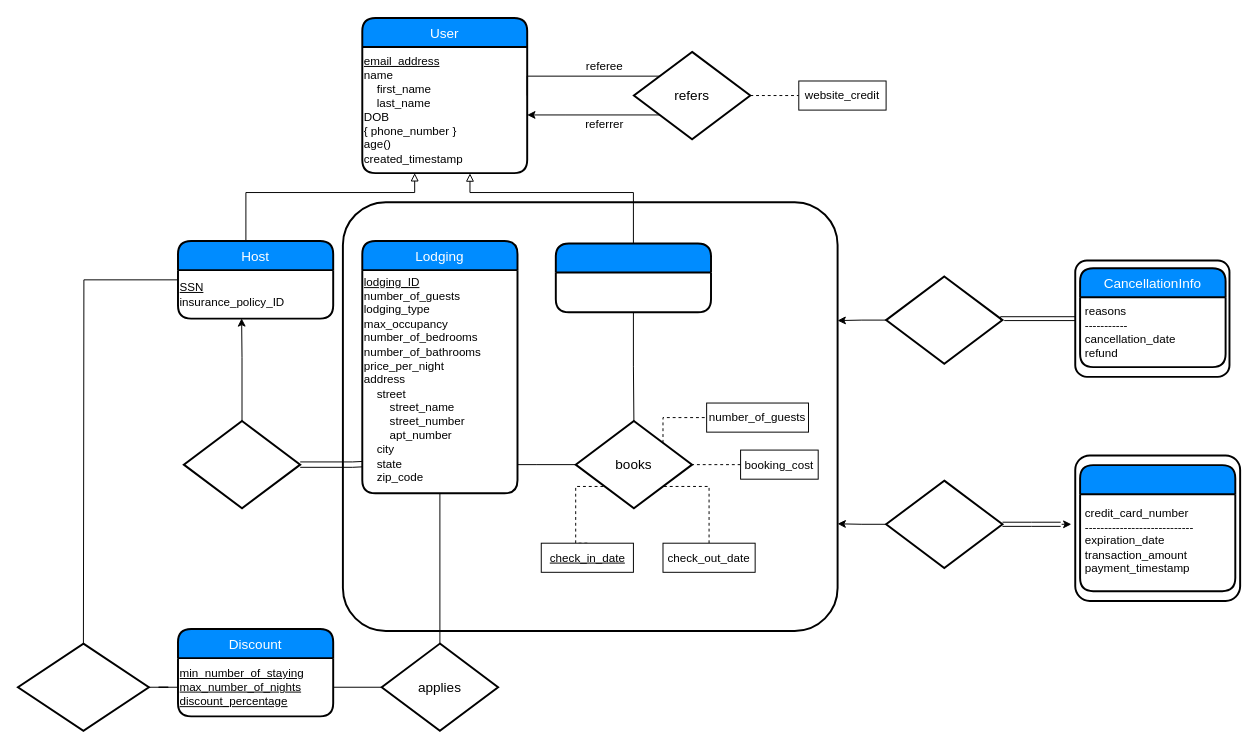
The diagram is 1257 pixels wide and 748 high, and some of its shapes have lost their labels. Here are the shapes that lost their labels. From the top down, the box of each, then its label:
(554, 242, 711, 313): Guest
(885, 275, 1003, 364): cancels_with
(182, 420, 301, 509): offers
(885, 479, 1003, 568): pays_with
(1079, 464, 1236, 592): PaymentInfo
(16, 642, 149, 731): discount_offers
